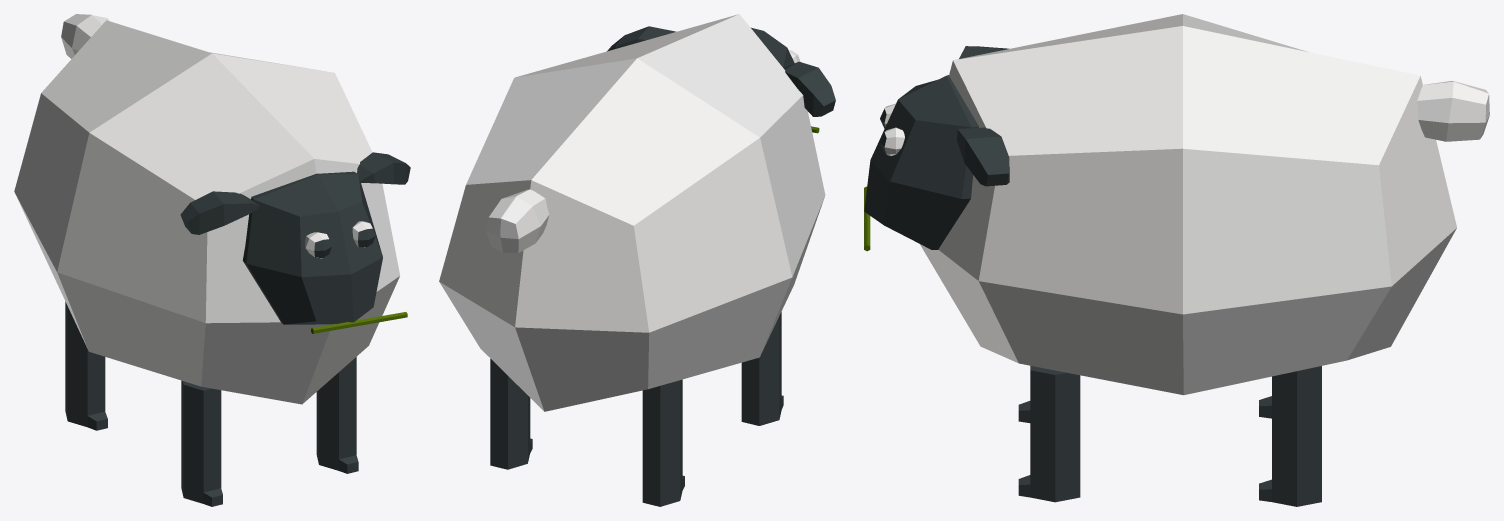
Rendered from sheep.fbx.
The picture shows the model from 3 angles, left to right: view 1: azimuth 30°, elevation 25°; view 2: azimuth 150°, elevation 25°; view 3: azimuth 270°, elevation 25°; orthographic projection. The views are drawn at different scales.
Parts seen in each view (by area): view 1: body, head, leg_front, leg_back, ear, tail, eye, glass; view 2: body, leg_back, leg_front, tail, ear, head; view 3: body, head, leg_back, leg_front, tail, ear, eye.
Part boxes in pixels (x1=…): body: x1=14, y1=20, x2=400, y2=404; head: x1=242, y1=171, x2=382, y2=324; leg_front: x1=181, y1=357, x2=358, y2=506; leg_back: x1=65, y1=301, x2=107, y2=430; ear: x1=180, y1=152, x2=410, y2=234; tail: x1=61, y1=14, x2=109, y2=58; eye: x1=305, y1=221, x2=375, y2=258; glass: x1=311, y1=312, x2=407, y2=333; body: x1=439, y1=14, x2=825, y2=411; leg_back: x1=490, y1=358, x2=684, y2=506; leg_front: x1=741, y1=312, x2=783, y2=425; tail: x1=486, y1=189, x2=549, y2=252; ear: x1=607, y1=26, x2=835, y2=116; head: x1=751, y1=27, x2=794, y2=68; body: x1=920, y1=14, x2=1456, y2=395; head: x1=864, y1=75, x2=978, y2=249; leg_back: x1=1259, y1=366, x2=1321, y2=506; leg_front: x1=1018, y1=365, x2=1080, y2=502; tail: x1=1417, y1=81, x2=1489, y2=141; ear: x1=957, y1=46, x2=1009, y2=186; eye: x1=880, y1=103, x2=904, y2=155.
Size of the model in its own units: 139 by 89.14 by 105.
